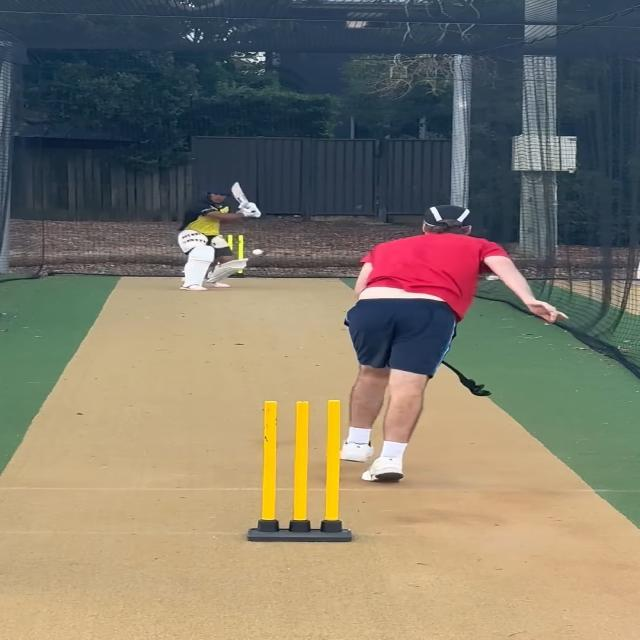ball: (248, 248, 267, 257)
stump: (242, 395, 354, 542), (218, 234, 247, 277)
